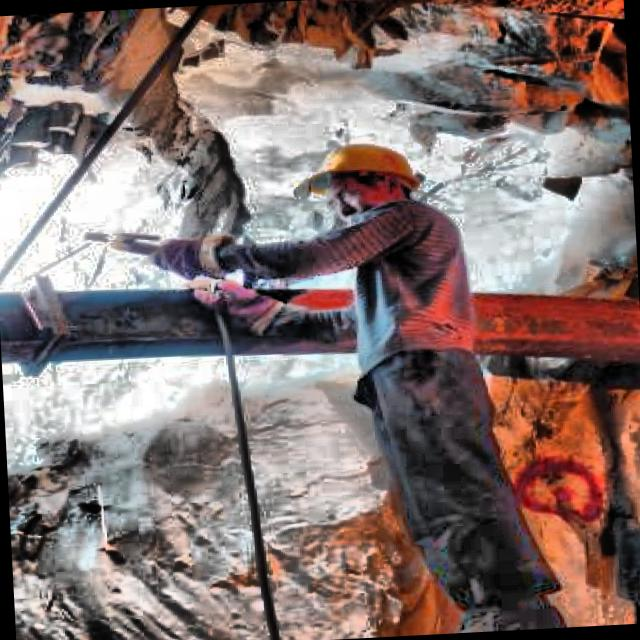helmet: (302, 128, 438, 225)
